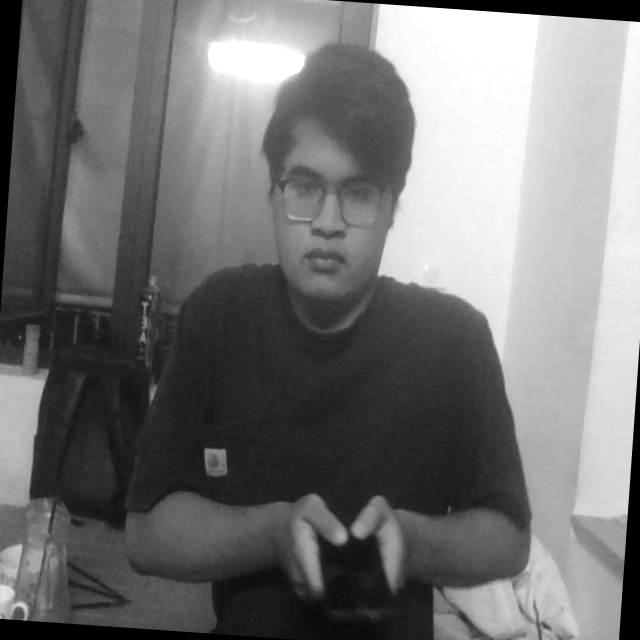phone: (306, 491, 404, 636)
